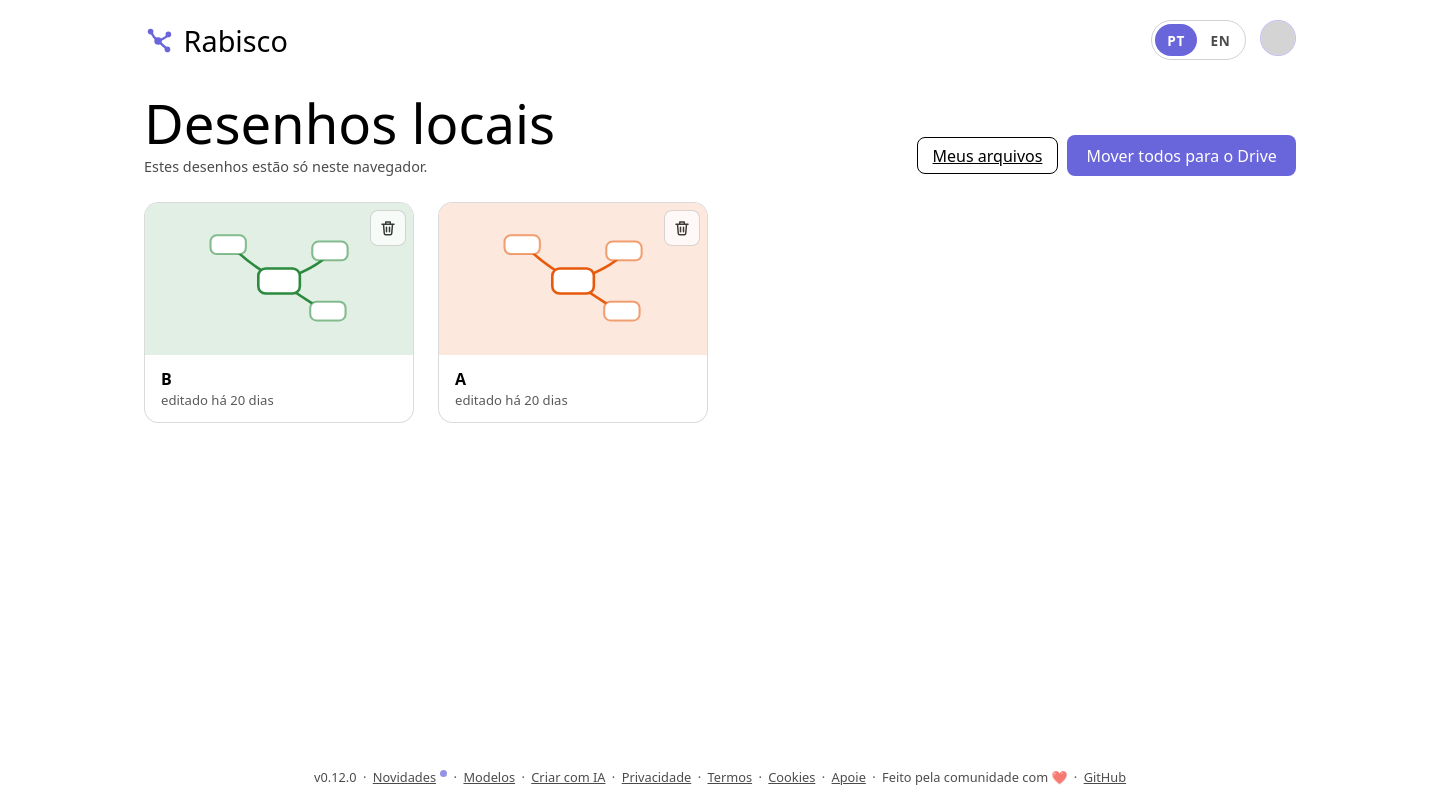
it: moves all of them to Drive and shows the result
The image size is (1440, 810).
What coordinates should you click on to do the following:
click the button "Mover todos para o Drive"
I would click on:
 (1182, 156)
Its box is 1067,135 -> 1296,176.
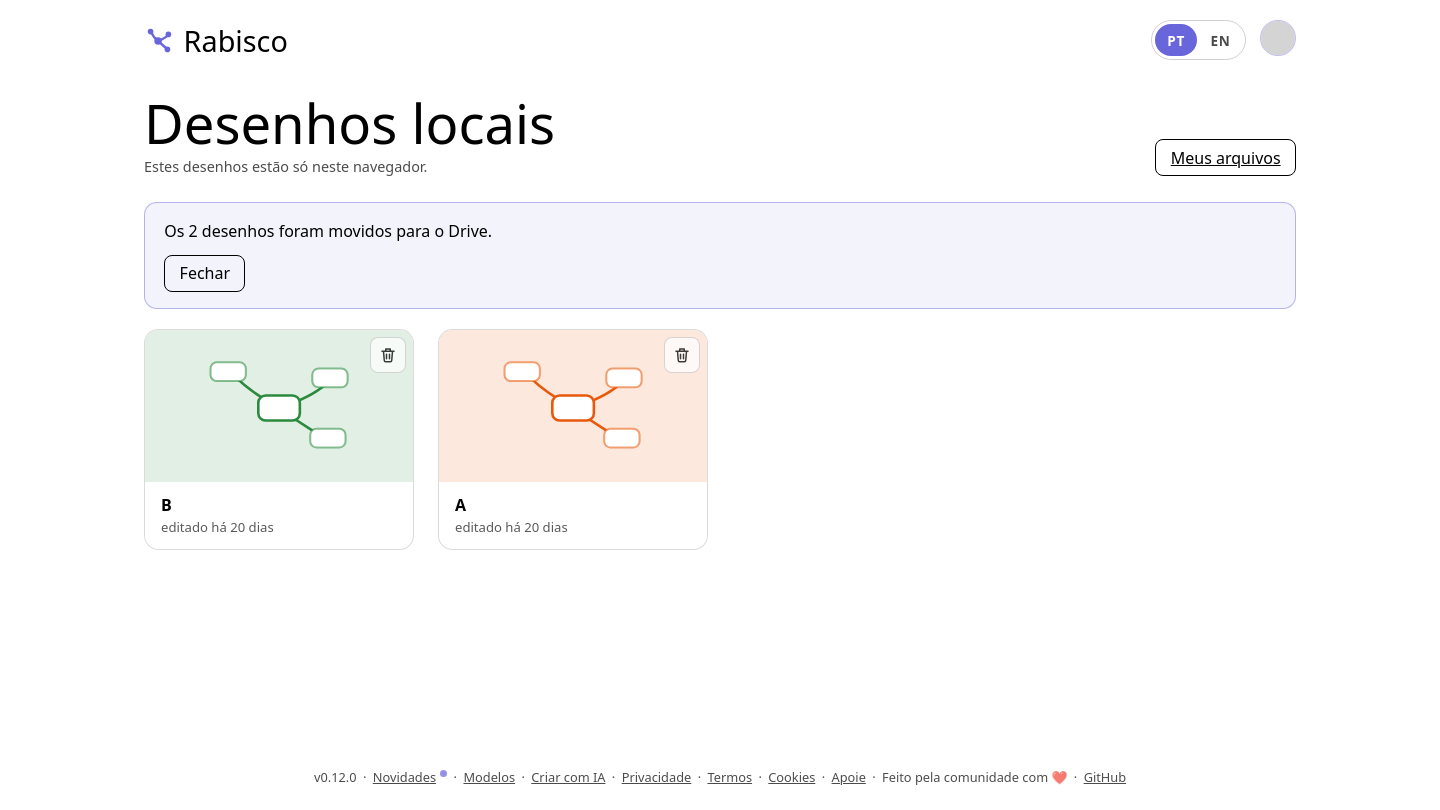
Expected: the text "Os 2 desenhos foram movidos para o Drive." is shown, 164,220 -> 492,242
